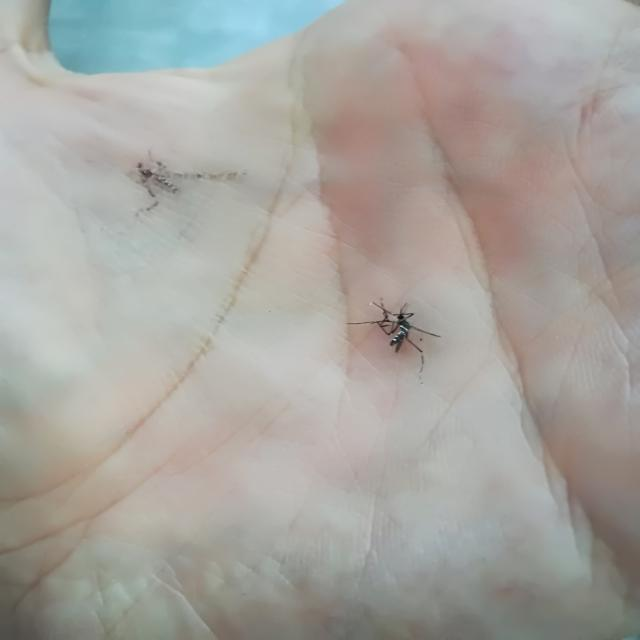albopictus: (343, 290, 443, 378)
